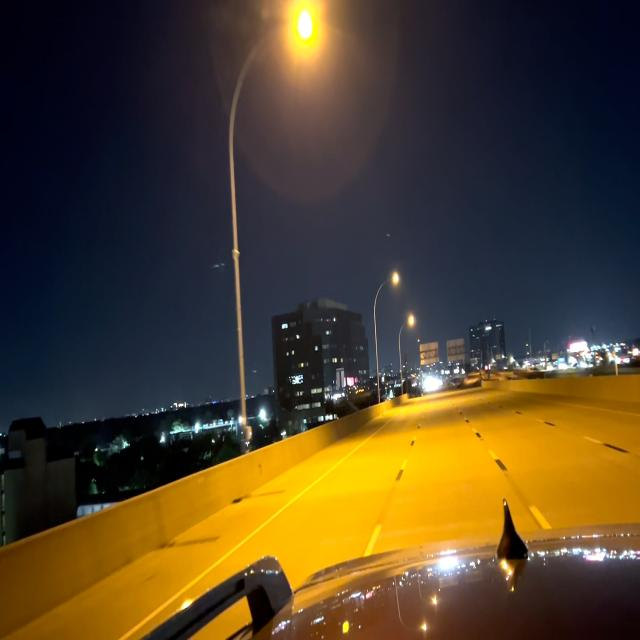back-of-sign: (420, 339, 440, 369), (446, 337, 467, 365), (336, 366, 346, 393)
